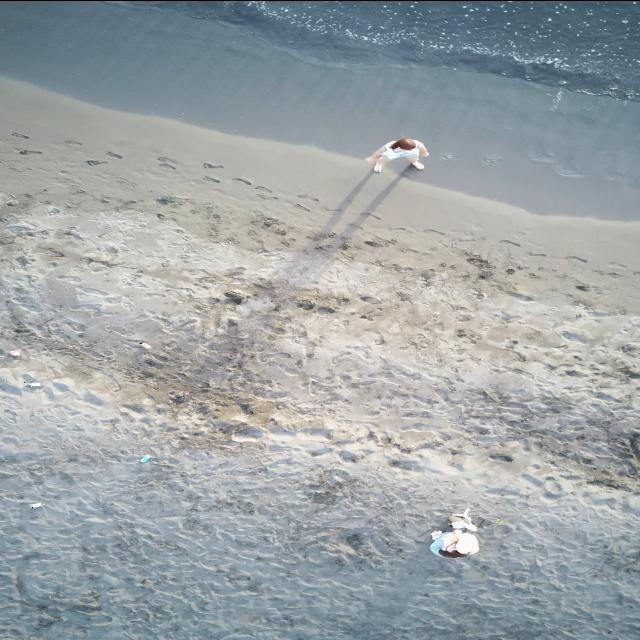Garbage: (430, 508, 477, 555), (448, 508, 475, 531), (432, 528, 443, 540), (140, 453, 151, 462), (492, 517, 504, 524), (24, 382, 40, 387), (140, 342, 151, 348), (8, 350, 20, 355), (28, 503, 43, 507)
